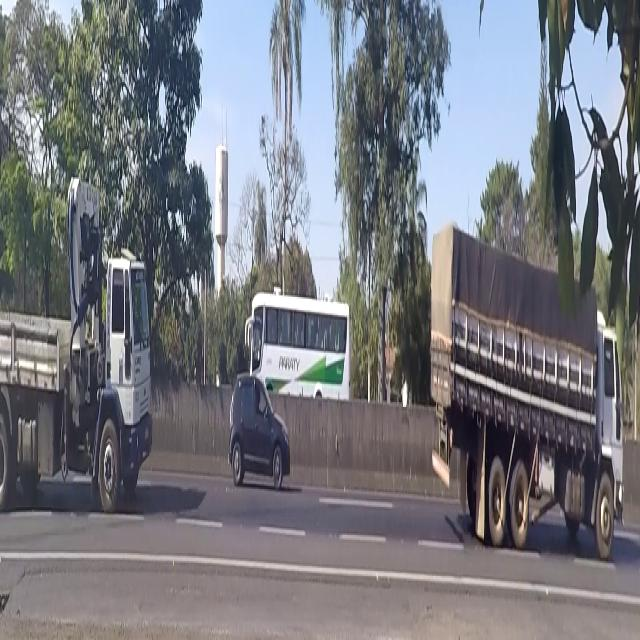-axle: (97, 415, 119, 518), (488, 443, 506, 563), (510, 457, 531, 558), (596, 469, 617, 560)
